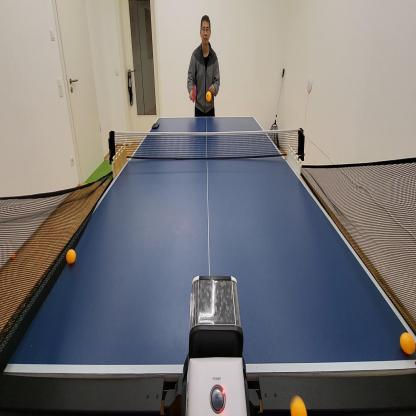Ball: (398, 330, 416, 356), (289, 393, 308, 416), (65, 248, 77, 267), (204, 90, 212, 104), (10, 250, 17, 262), (102, 182, 106, 190)
